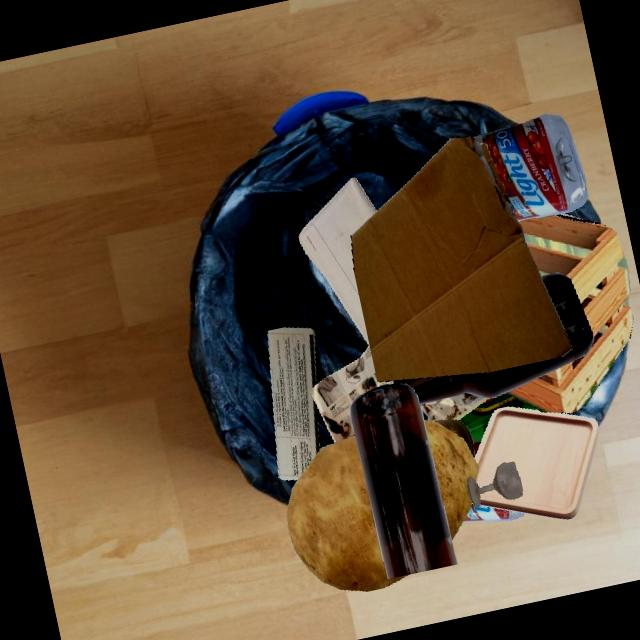biowaste: (286, 435, 407, 591), (423, 420, 478, 540)
cardboard: (350, 135, 572, 381)
combustible waste: (506, 214, 633, 412), (474, 406, 598, 519), (556, 213, 585, 220)
glass: (393, 272, 593, 404), (350, 383, 457, 579), (457, 392, 539, 441), (466, 461, 522, 507), (430, 419, 474, 457)
paper: (299, 177, 376, 345), (309, 344, 394, 442), (267, 327, 319, 480), (420, 392, 489, 420)
plastic: (473, 113, 587, 221), (461, 502, 525, 523)
